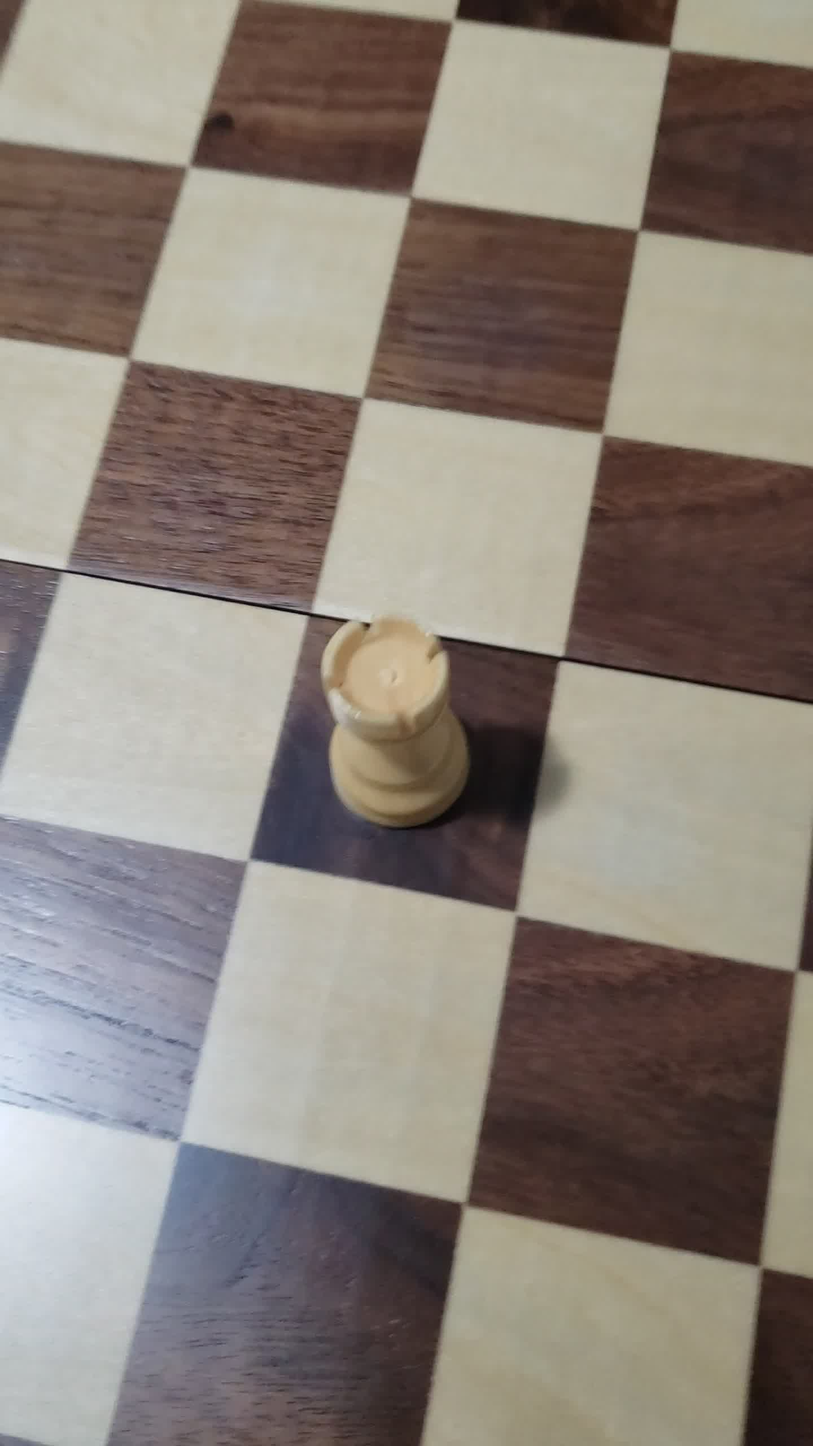white-rook: (279, 588, 496, 886)
